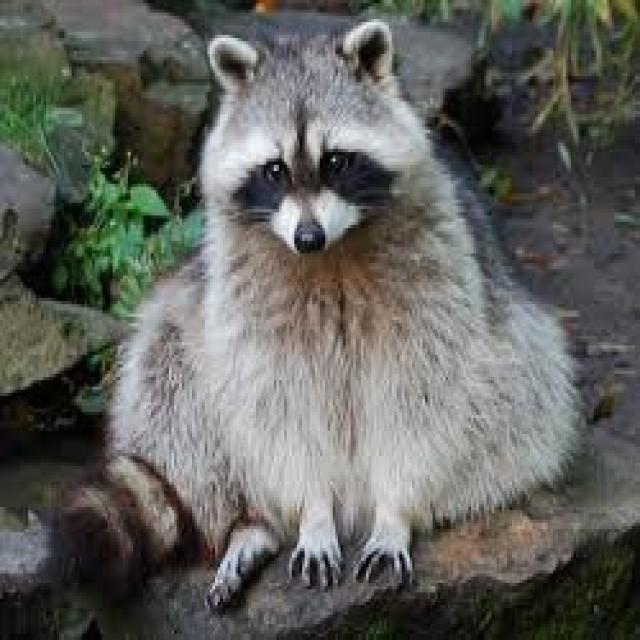racoon: (147, 9, 554, 616)
